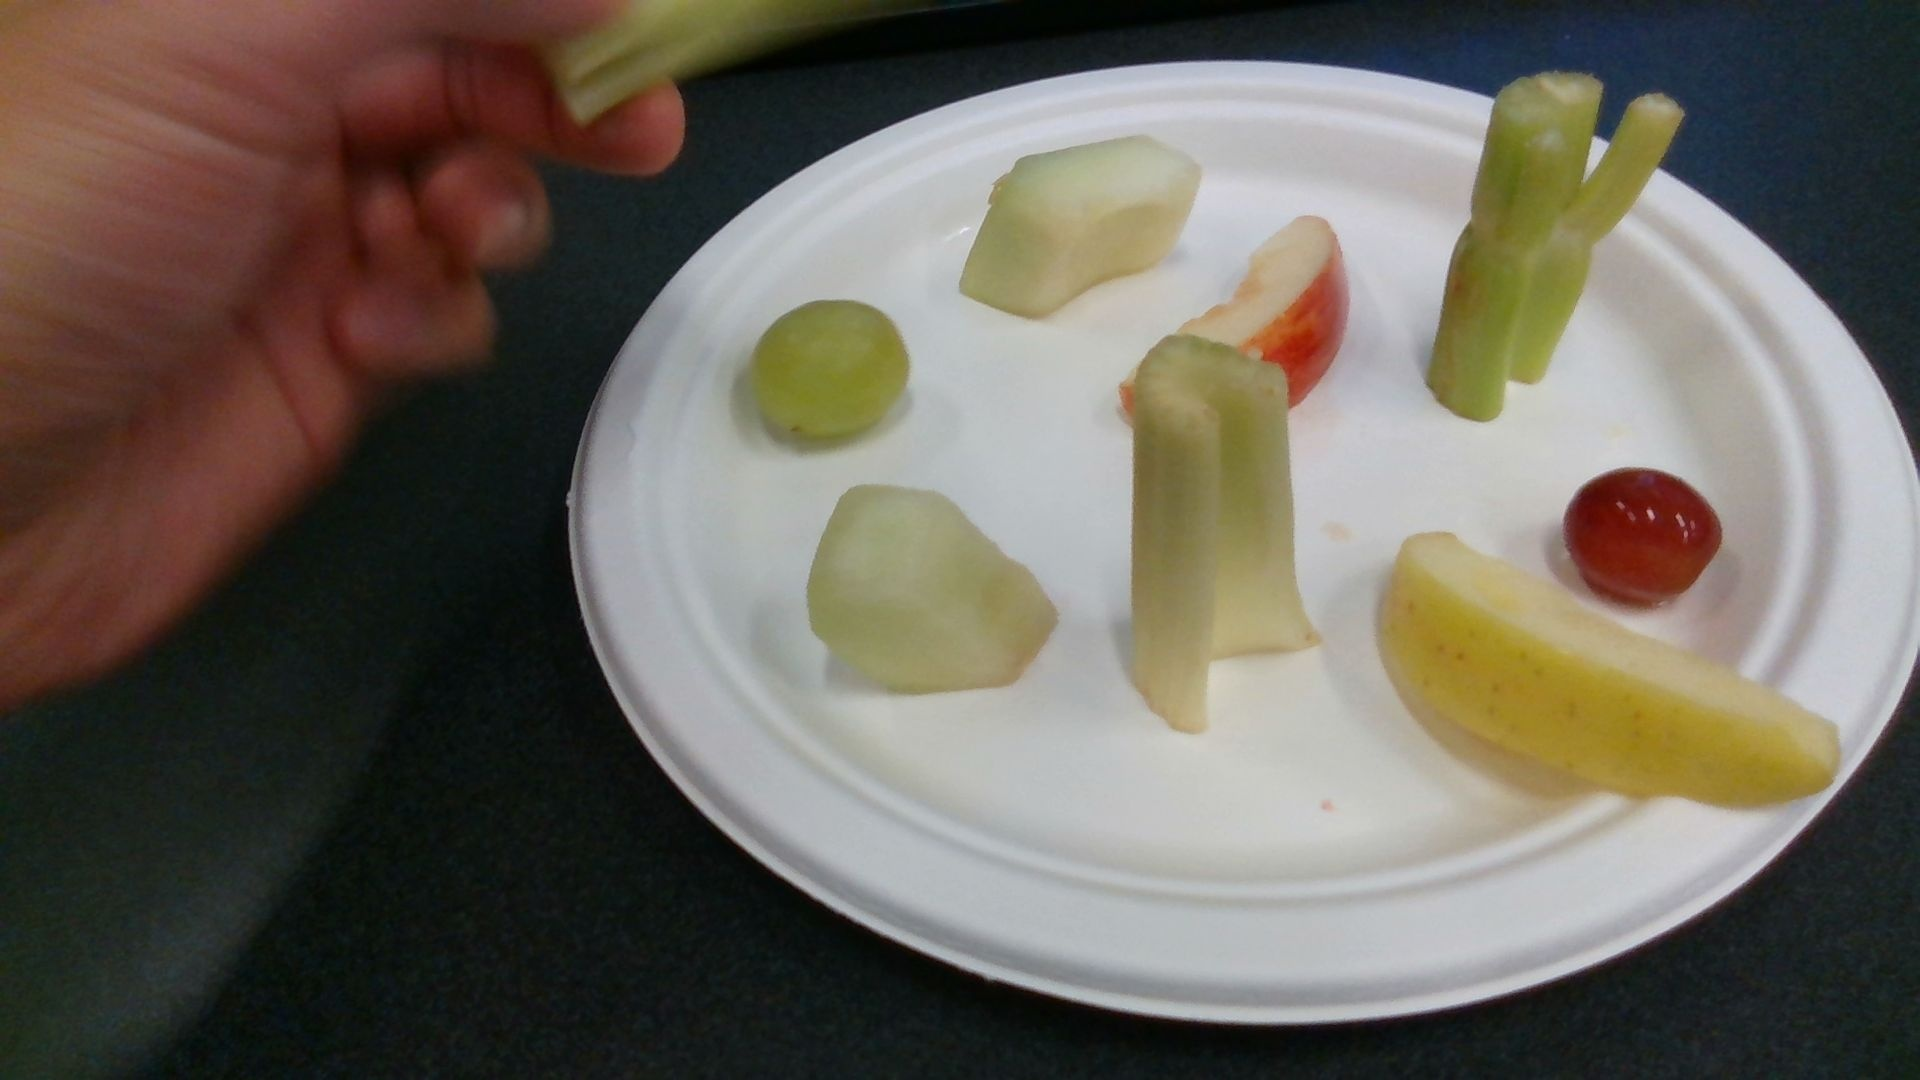apple: (1385, 533, 1840, 798), (1120, 218, 1352, 415)
cantalope: (804, 487, 1058, 694), (960, 135, 1199, 315)
celery: (1429, 76, 1684, 421), (1135, 336, 1320, 735)
grape_green: (757, 301, 907, 436)
grape_purple: (1567, 473, 1724, 600)
